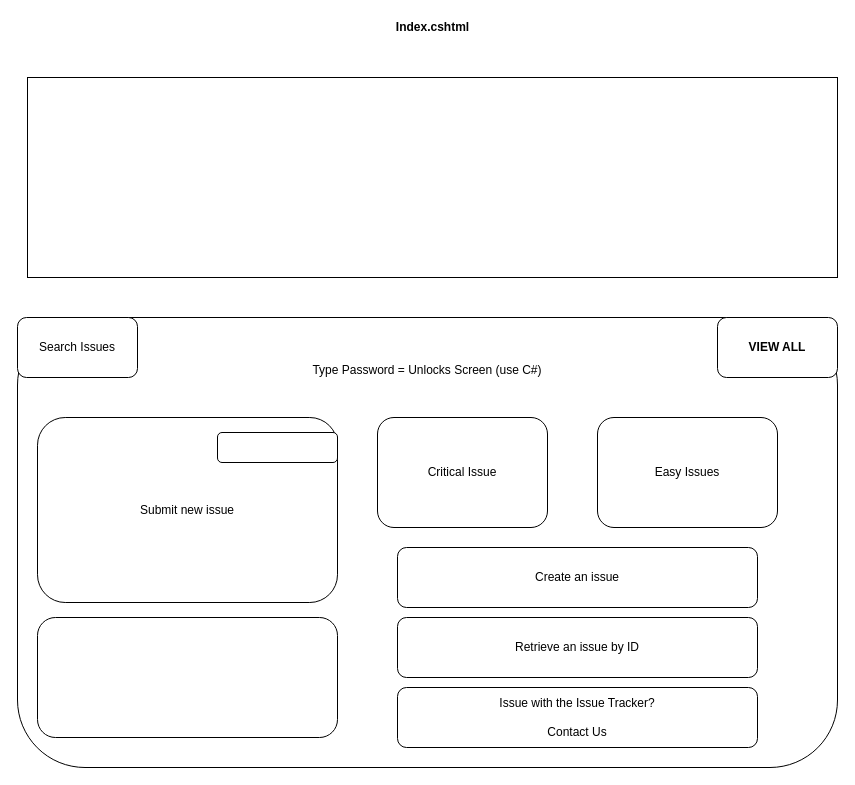
The diagram is 855 pixels wide and 785 high, and some of its shapes have lost their labels. Here are the shapes that lost their labels. From the top down, the centre of each, then its label:
point (432, 177): Lorem Ipsum
point (277, 447): Quick Submit
point (187, 677): "Software Development Lifecycle"
